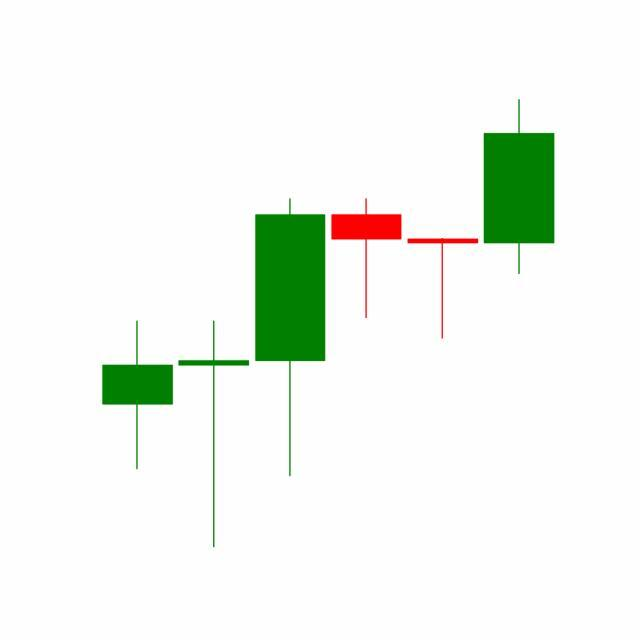Dragonfly Doji: (404, 237, 482, 341)
